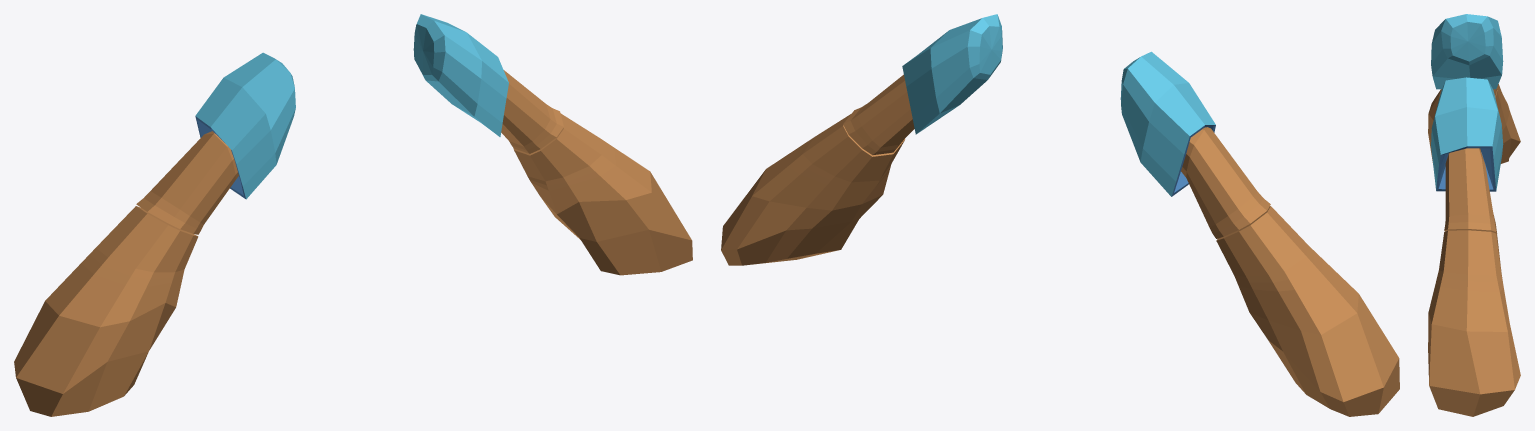
File: Arms (1).fbx
3 views of the same model, side by side, from view 1: azimuth 30°, elevation 25°; view 2: azimuth 150°, elevation 25°; view 3: azimuth 270°, elevation 25° (orthographic). The views are drawn at different scales.
Parts seen in each view (by area): view 1: LowerArm.L, LowerArm.R, UpperArm.L, UpperArm.R; view 2: LowerArm.L, LowerArm.R, UpperArm.L, UpperArm.R; view 3: LowerArm.R, UpperArm.R, UpperArm.L, LowerArm.L.
Part boxes in pixels (x1,y1,x2,y2): LowerArm.L: (14,206,198,416); LowerArm.R: (513,113,692,275); UpperArm.L: (136,52,295,234); UpperArm.R: (413,14,563,153); LowerArm.L: (1216,206,1399,416); LowerArm.R: (721,114,905,265); UpperArm.L: (1120,51,1270,238); UpperArm.R: (843,14,1002,155); LowerArm.R: (1428,230,1520,416); UpperArm.R: (1431,77,1503,234); UpperArm.L: (1431,14,1503,96); LowerArm.L: (1428,84,1520,163).
Bounding box in the file's own units: 50.4 × 340 × 145.
